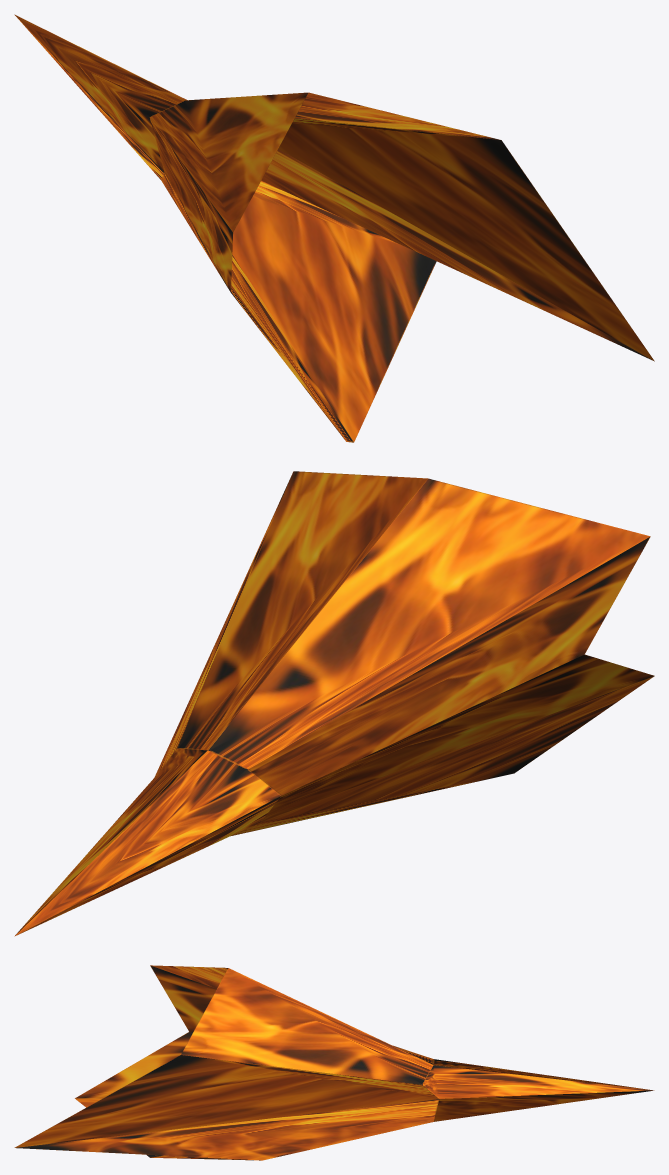
Rendered from flames.obj.
3 views of the same model, one above another, from view 1: azimuth 30°, elevation 25°; view 2: azimuth 150°, elevation 25°; view 3: azimuth 270°, elevation 25° (orthographic). The views are drawn at different scales.
Visible parts, largest first — view 1: Cube; view 2: Cube; view 3: Cube.
Boxes of the visible parts, box(x1,y1,x2,y2) form: Cube: box(14, 14, 654, 442); Cube: box(14, 471, 654, 936); Cube: box(14, 965, 654, 1160).
Size of the model in its own units: 0.987 by 0.9001 by 2.68.
1 material, 1 textured.
